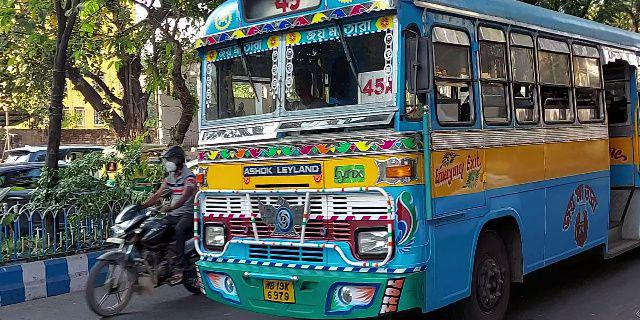Bus: (191, 2, 640, 320)
Motorbike: (83, 145, 202, 320)
